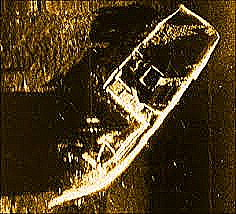ship: (45, 4, 221, 210)
